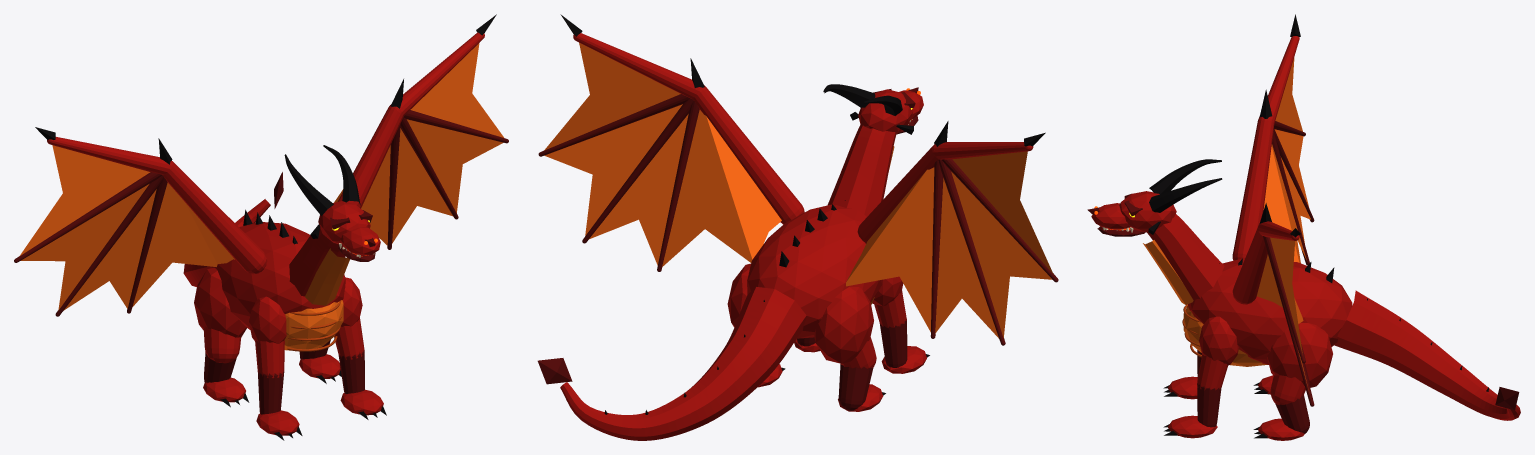
File: ashking.glb
3 renders of one model, left to right at view 1: azimuth 30°, elevation 25°; view 2: azimuth 150°, elevation 25°; view 3: azimuth 270°, elevation 25°, orthographic. The views are drawn at different scales.
Parts seen in each view (by area): view 1: wing_-1_membrane, wing_1_membrane, body, wing_-1_arm, leg_-1_-1, wing_1_arm, body_belly, wing_-1_forearm, neck, wing_1_forearm, leg_-1_1, neck_front (+22 smaller); view 2: wing_1_membrane, wing_-1_membrane, tail, body, neck, wing_1_arm, leg_-1_-1, wing_1_forearm, wing_-1_arm, wing_-1_finger1, wing_1_finger1, wing_-1_forearm (+14 smaller); view 3: tail, body, wing_-1_membrane, neck, wing_-1_arm, leg_1_-1, wing_1_membrane, wing_1_arm, leg_1_1, head, wing_-1_forearm, neck_front (+16 smaller).
Boxes of the visible parts, x1,y1,x2,y2 form: wing_-1_membrane: (19, 145, 234, 310); wing_1_membrane: (334, 43, 503, 245); body: (212, 222, 345, 329); wing_-1_arm: (163, 161, 267, 274); leg_-1_-1: (194, 267, 246, 337); wing_1_arm: (337, 105, 403, 208); body_belly: (284, 300, 343, 350); wing_-1_forearm: (47, 137, 173, 175); neck: (289, 228, 345, 296); wing_1_forearm: (388, 32, 484, 115); leg_-1_1: (249, 296, 286, 343); neck_front: (305, 248, 349, 305); wing_1_membrane: (544, 42, 781, 266); wing_-1_membrane: (846, 151, 1053, 338); tail: (560, 287, 806, 440); body: (747, 204, 882, 338); neck: (827, 124, 896, 216); wing_1_arm: (693, 87, 804, 224); leg_-1_-1: (814, 287, 873, 363); wing_1_forearm: (573, 33, 706, 99); wing_-1_arm: (857, 144, 938, 243); wing_-1_finger1: (938, 159, 1005, 345); wing_1_finger1: (582, 98, 693, 243); wing_-1_forearm: (932, 142, 1033, 159); tail: (1334, 290, 1520, 420); body: (1188, 258, 1352, 364); wing_-1_membrane: (1263, 57, 1310, 263); neck: (1147, 214, 1224, 300); wing_-1_arm: (1232, 117, 1274, 260); leg_1_-1: (1267, 323, 1332, 387); wing_1_membrane: (1257, 237, 1309, 392); wing_1_arm: (1232, 225, 1267, 304); leg_1_1: (1199, 316, 1238, 365); head: (1119, 191, 1176, 232); wing_-1_forearm: (1258, 36, 1299, 123); neck_front: (1143, 240, 1193, 304).
Size of the model in its own units: 12.9 by 7.76 by 10.34.
